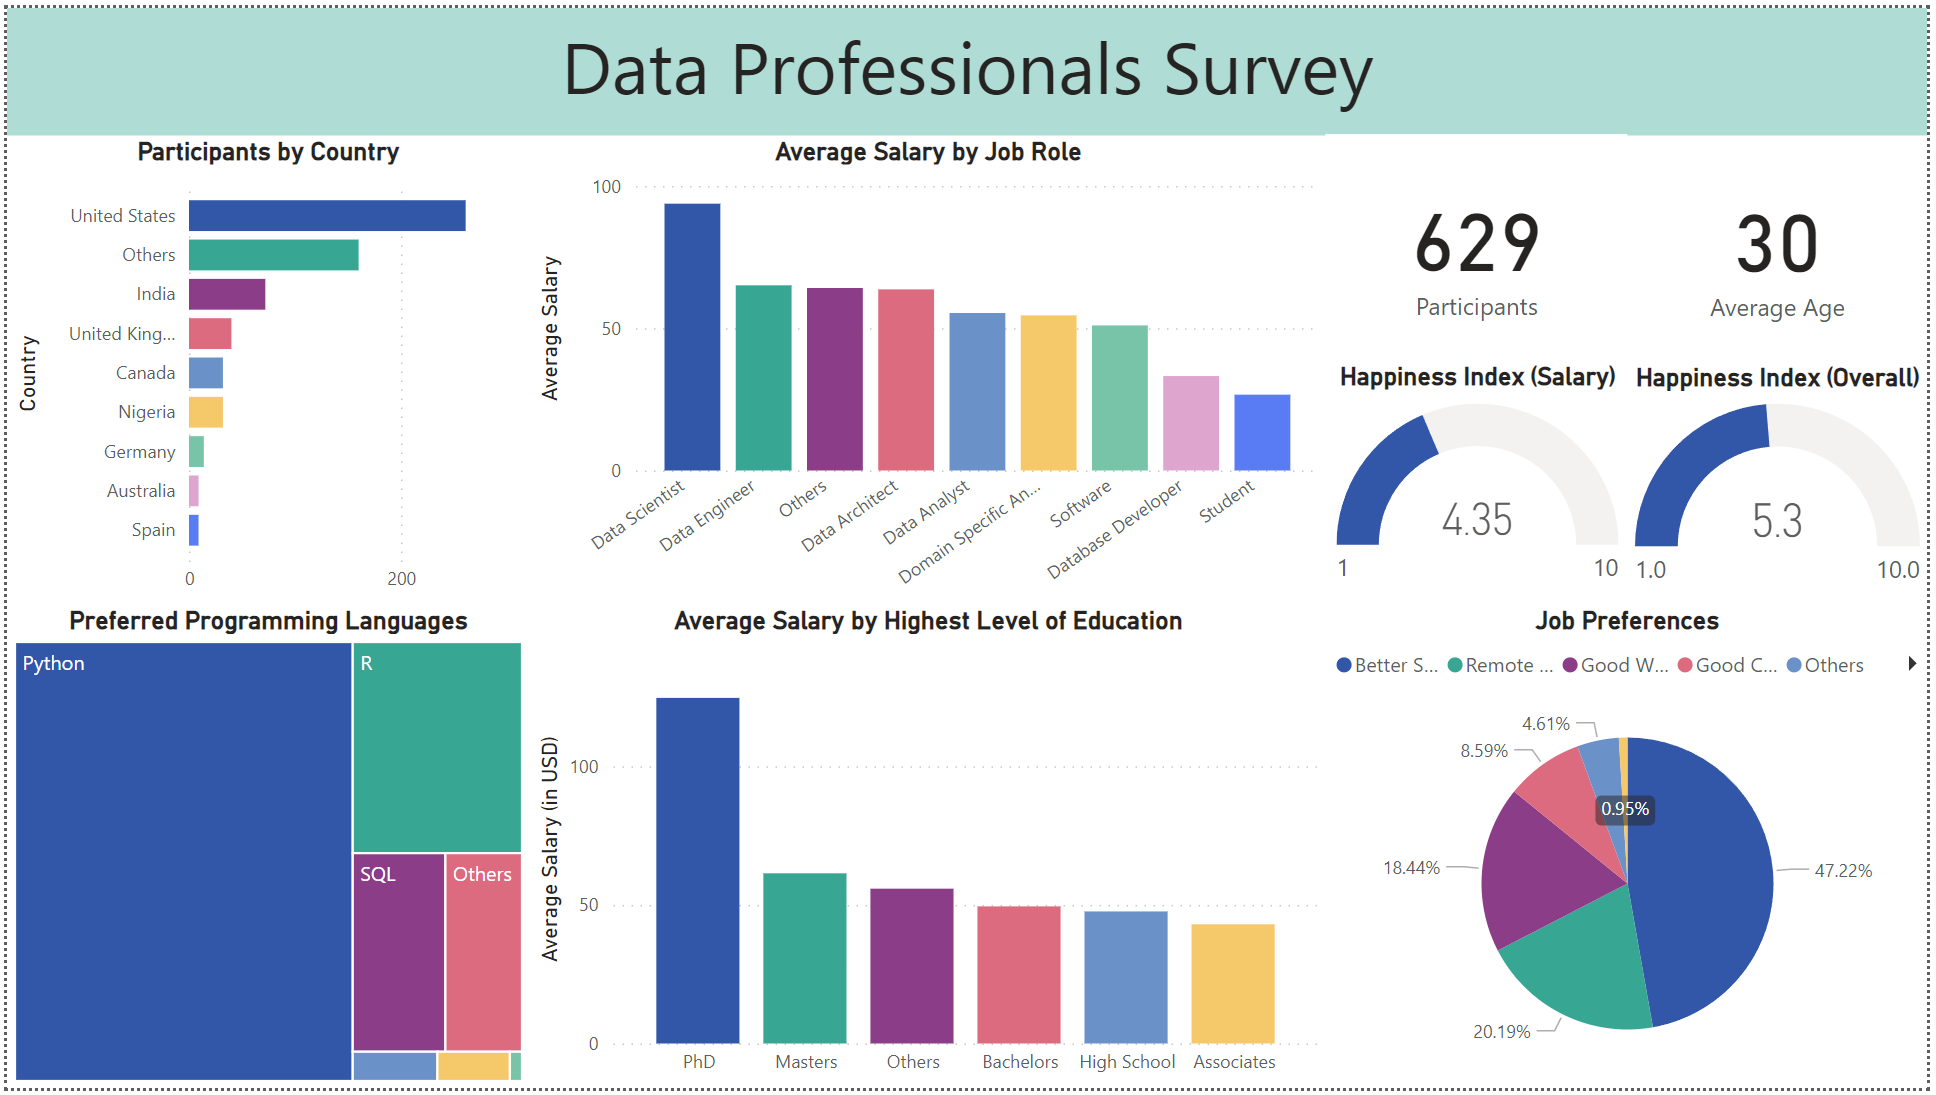

Layout of this report page (visuals, bound fields, positions):
{"tool":"powerbi","page":{"name":"Dashboard","canvas":[1280,720],"ordinal":0},"visuals":[{"type":"textbox","box":[0,0,1280.4,84.6],"z":0},{"type":"card","fields":{"Values":["CountNonNull(Data Professional Survey.Unique ID)"]},"box":[879.4,84.1,200.3,150.5],"z":1000},{"type":"card","fields":{"Values":["Avg(Data Professional Survey.Age)"]},"box":[1079.9,84.6,200.5,150.6],"z":2000},{"type":"barChart","title":"Participants by Country","fields":{"Category":["Data Professional Survey.Country"],"Y":["CountNonNull(Data Professional Survey.Unique ID)"],"Series":["Data Professional Survey.Country"]},"box":[0,85,347.5,312.5],"z":3000},{"type":"columnChart","title":"Average Salary by Job Role","fields":{"Y":["Avg(Data Professional Survey.Average Salary (in USD))"],"Category":["Data Professional Survey.Current Role"],"Series":["Data Professional Survey.Current Role"]},"box":[347.5,85,532.5,312.5],"z":4000},{"type":"pieChart","title":"Job Preferences","fields":{"Category":["Data Professional Survey.Preferences"],"Y":["CountNonNull(Data Professional Survey.Preferences)"]},"box":[880,397.5,400,322.5],"z":5000},{"type":"columnChart","title":"Average Salary by Highest Level of Education","fields":{"Category":["Data Professional Survey.Highest Level of Education"],"Y":["Avg(Data Professional Survey.Average Salary (in USD))"],"Series":["Data Professional Survey.Highest Level of Education"]},"box":[347.5,397.5,532.5,322.5],"z":6000},{"type":"treemap","title":"Preferred Programming Languages","fields":{"Group":["Data Professional Survey.Favourite Programming Language"],"Values":["CountNonNull(Data Professional Survey.Favourite Programming Language)"]},"box":[0,398,348,322],"z":7000},{"type":"gauge","title":"Happiness Index (Salary)","fields":{"Y":["Avg(Data Professional Survey.Happiness Rating (Salary))"],"MinValue":["Min(Data Professional Survey.Happiness Rating (Salary))"],"MaxValue":["Max(Data Professional Survey.Happiness Rating (Salary))"]},"box":[881,235,198,163],"z":8000},{"type":"gauge","title":"Happiness Index (Overall)","fields":{"Y":["Avg(Data Professional Survey.Overall Happiness Rating)"],"MinValue":["Min(Data Professional Survey.Overall Happiness Rating)"],"MaxValue":["Max(Data Professional Survey.Overall Happiness Rating)1"]},"box":[1080,236,200,162],"z":9000}]}

Visuals, with their boxes in screenshot pixels (x1, y1, x2, y2), scaled from the page's 1280x720 canvas onto the 1936x1095 screenshot:
textbox: region(0, 0, 1935, 129)
card - CountNonNull(Data Professional Survey.Unique ID): region(1330, 128, 1633, 357)
card - Avg(Data Professional Survey.Age): region(1633, 129, 1935, 358)
"Participants by Country" barChart: region(0, 129, 526, 605)
"Average Salary by Job Role" columnChart: region(526, 129, 1331, 605)
"Job Preferences" pieChart: region(1331, 605, 1935, 1094)
"Average Salary by Highest Level of Education" columnChart: region(526, 605, 1331, 1094)
"Preferred Programming Languages" treemap: region(0, 605, 526, 1094)
"Happiness Index (Salary)" gauge: region(1333, 357, 1632, 605)
"Happiness Index (Overall)" gauge: region(1634, 359, 1935, 605)
